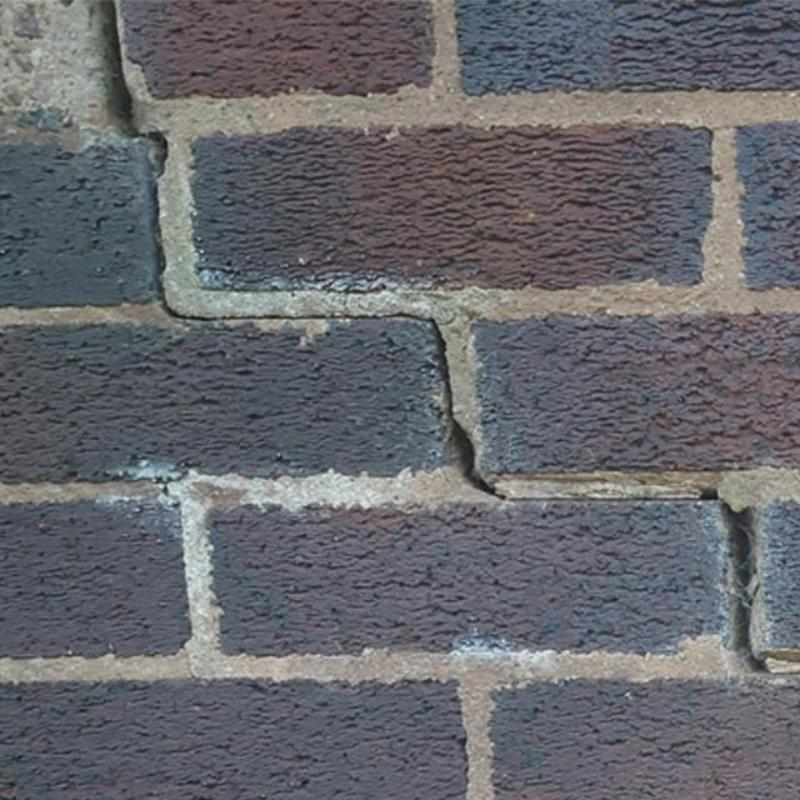pothole: (153, 225, 510, 501), (696, 489, 774, 675), (100, 1, 170, 177)
